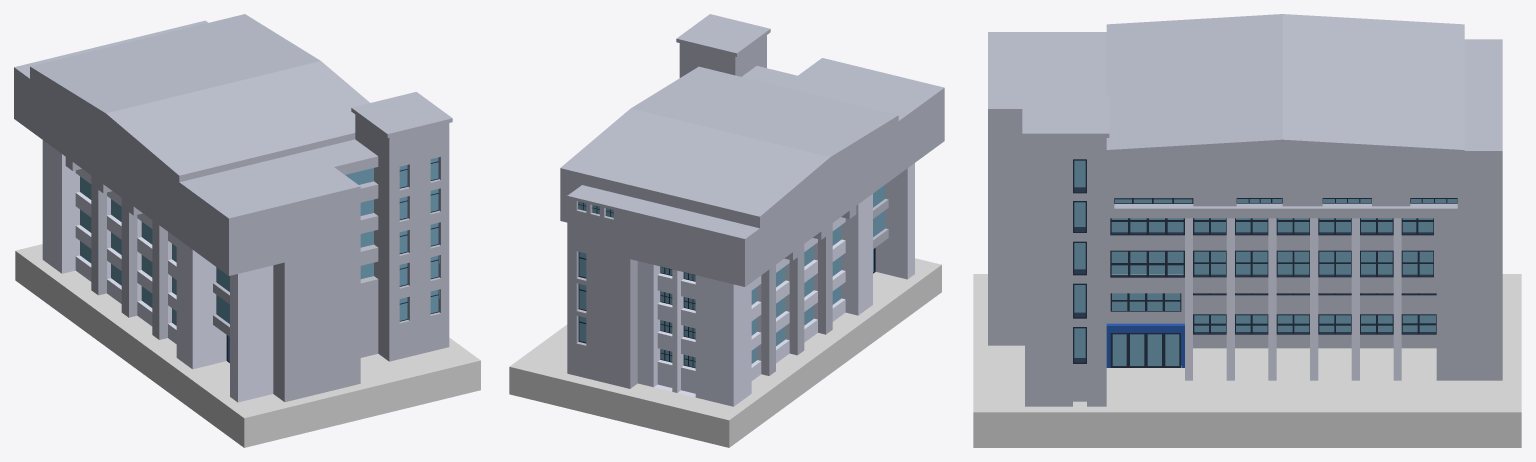
File: 종합강의동.fbx
3 renders of one model, left to right at view 1: azimuth 30°, elevation 25°; view 2: azimuth 150°, elevation 25°; view 3: azimuth 270°, elevation 25°, orthographic. The views are drawn at different scales.
Visible parts, largest first — view 1: Cube.020, Cube.002, Cube.010, Cube, Cube.008, Cube.013, Cube.046, Cube.014, Cube.015, Cube.003, Cube.012, Cube.004 (+1 smaller); view 2: Cube.020, Cube.008, Cube.010, Cube.012, Cube.002, Cube.013, Cube.046, Cube.014, Cube.015, Cube.004, Cube, Cube.006 (+2 smaller); view 3: Cube.020, Cube.010, Cube.006, Cube, Cube.007, Cube.008, Cube.002, Cube.009, Cube.005, Cube.004, door, Cube.001 (+3 smaller).
Part boxes in pixels (bbox=[...]): Cube.020: bbox=[30, 14, 369, 187]; Cube.002: bbox=[164, 150, 360, 401]; Cube.010: bbox=[15, 244, 480, 447]; Cube: bbox=[355, 115, 449, 361]; Cube.008: bbox=[14, 20, 208, 228]; Cube.013: bbox=[75, 169, 176, 343]; Cube.046: bbox=[65, 157, 167, 339]; Cube.014: bbox=[230, 265, 273, 402]; Cube.015: bbox=[176, 238, 226, 369]; Cube.003: bbox=[311, 139, 378, 357]; Cube.012: bbox=[42, 140, 79, 273]; Cube.004: bbox=[351, 92, 452, 137]; Cube.020: bbox=[560, 66, 898, 228]; Cube.008: bbox=[567, 137, 884, 388]; Cube.010: bbox=[509, 258, 941, 447]; Cube.012: bbox=[637, 261, 751, 406]; Cube.002: bbox=[783, 58, 944, 184]; Cube.013: bbox=[751, 217, 845, 380]; Cube.046: bbox=[761, 206, 856, 375]; Cube.014: bbox=[875, 163, 914, 279]; Cube.015: bbox=[841, 194, 872, 315]; Cube.004: bbox=[676, 14, 770, 56]; Cube: bbox=[679, 35, 766, 77]; Cube.006: bbox=[560, 174, 666, 222]; Cube.020: bbox=[1106, 14, 1464, 157]; Cube.010: bbox=[973, 274, 1521, 447]; Cube.006: bbox=[1106, 158, 1464, 218]; Cube: bbox=[1025, 138, 1106, 406]; Cube.007: bbox=[1106, 218, 1436, 293]; Cube.008: bbox=[1436, 39, 1502, 380]; Cube.002: bbox=[988, 32, 1106, 345]; Cube.009: bbox=[1193, 295, 1436, 348]; Cube.005: bbox=[1185, 218, 1401, 380]; Cube.004: bbox=[1022, 95, 1109, 137]; door: bbox=[1110, 333, 1180, 367]; Cube.001: bbox=[1106, 293, 1184, 323].
Size of the model in its own units: 922 by 928 by 1488.
